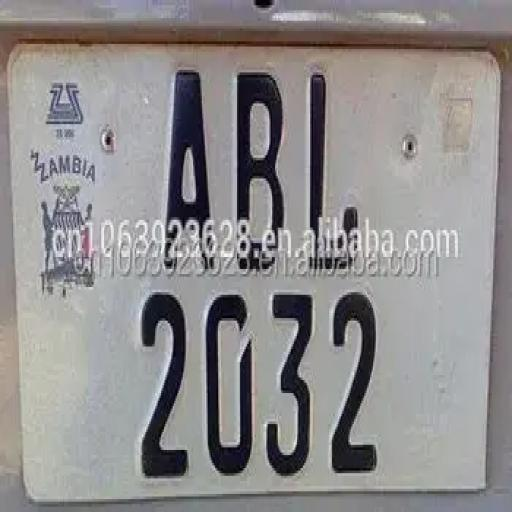number-plates: (94, 40, 403, 494)
